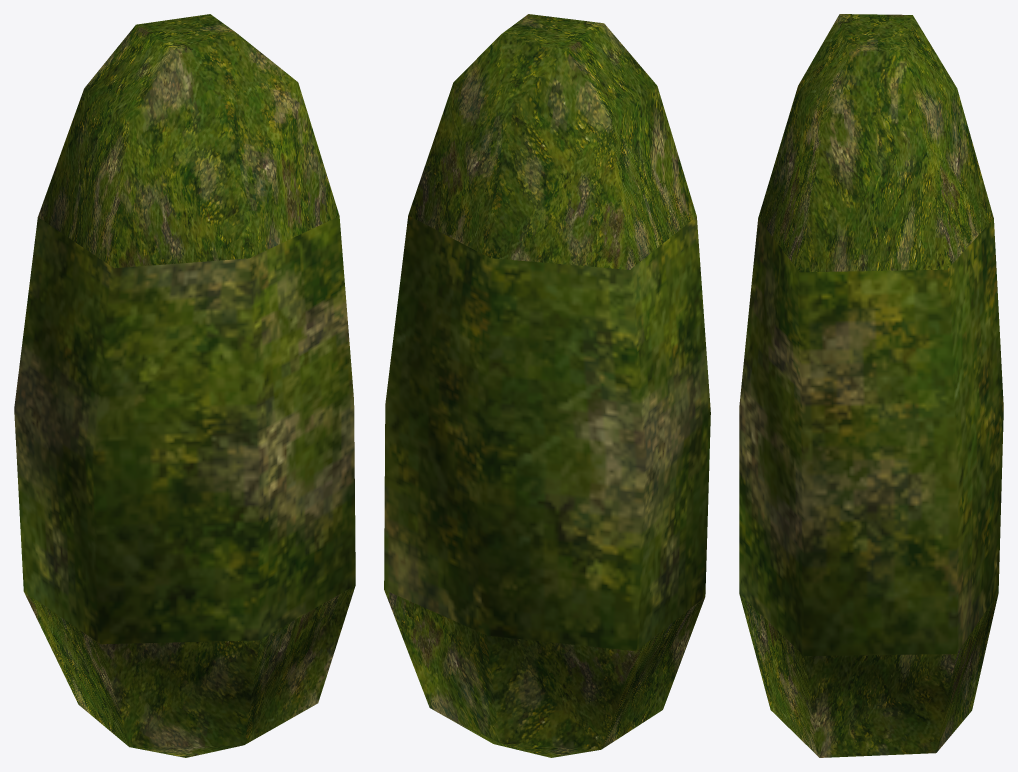
Rendered from OVERHILL_A_01_ROCK_BRIDGE06.fbx.
The picture shows the model from 3 angles, left to right: view 1: azimuth 30°, elevation 25°; view 2: azimuth 150°, elevation 25°; view 3: azimuth 270°, elevation 25°; orthographic projection.
Visible parts, largest first — view 1: OVERHILL_A_01_ROCK_BRIDGE06; view 2: OVERHILL_A_01_ROCK_BRIDGE06; view 3: OVERHILL_A_01_ROCK_BRIDGE06.
Part boxes in pixels (x1,y1,x2,y2): OVERHILL_A_01_ROCK_BRIDGE06: [14, 14, 355, 757]; OVERHILL_A_01_ROCK_BRIDGE06: [384, 14, 710, 757]; OVERHILL_A_01_ROCK_BRIDGE06: [739, 14, 1003, 757].
Size of the model in its own units: 8960 by 22829 by 7758.
1 material, 1 textured.
